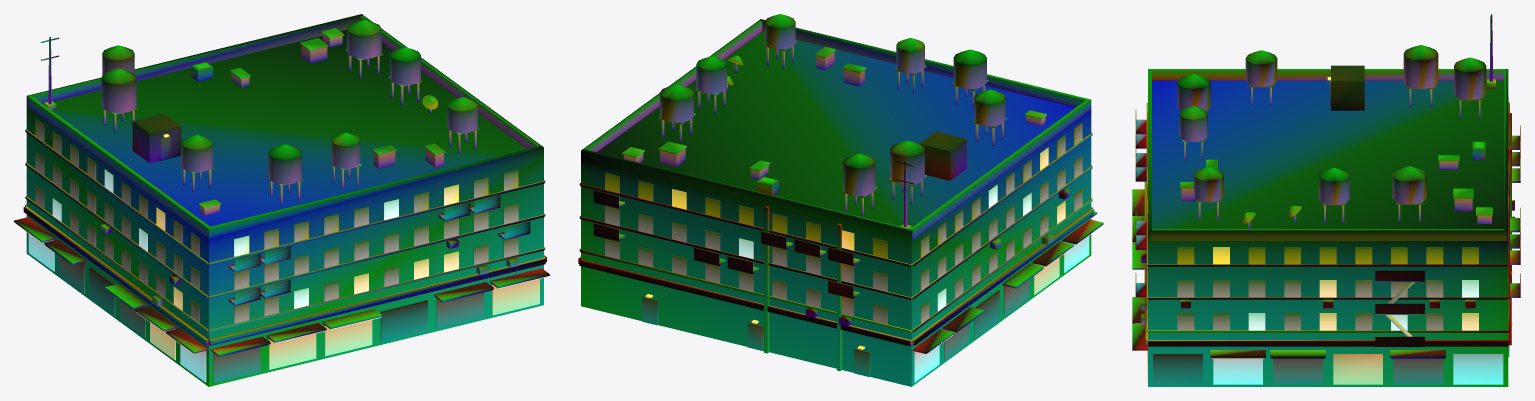
Rendered from Block_Corner_V2.fbx.
3 renders of one model, left to right at view 1: azimuth 30°, elevation 25°; view 2: azimuth 150°, elevation 25°; view 3: azimuth 270°, elevation 25°, orthographic.
Parts seen in each view (by area): view 1: Block_Corner_V2_LOD0; view 2: Block_Corner_V2_LOD0; view 3: Block_Corner_V2_LOD0.
Boxes of the visible parts, bbox=[...] form: Block_Corner_V2_LOD0: bbox=[14, 14, 549, 386]; Block_Corner_V2_LOD0: bbox=[578, 14, 1103, 386]; Block_Corner_V2_LOD0: bbox=[1132, 14, 1520, 386].
Size of what is drawn, in the model's own units: 37.1 by 21.25 by 34.5.
